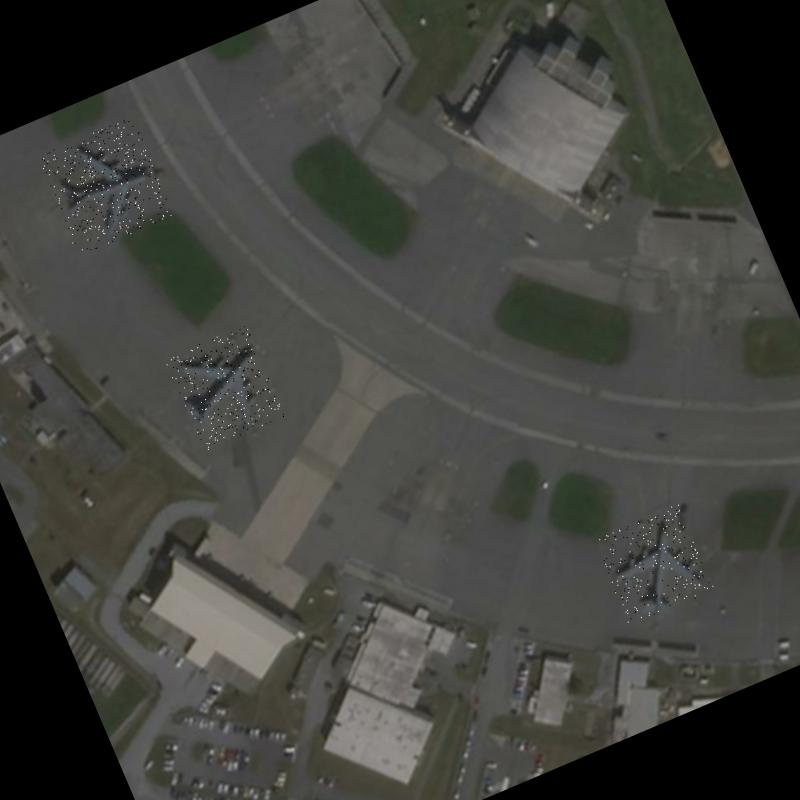A14: (36, 116, 175, 256), (164, 324, 286, 452), (593, 504, 716, 628)
